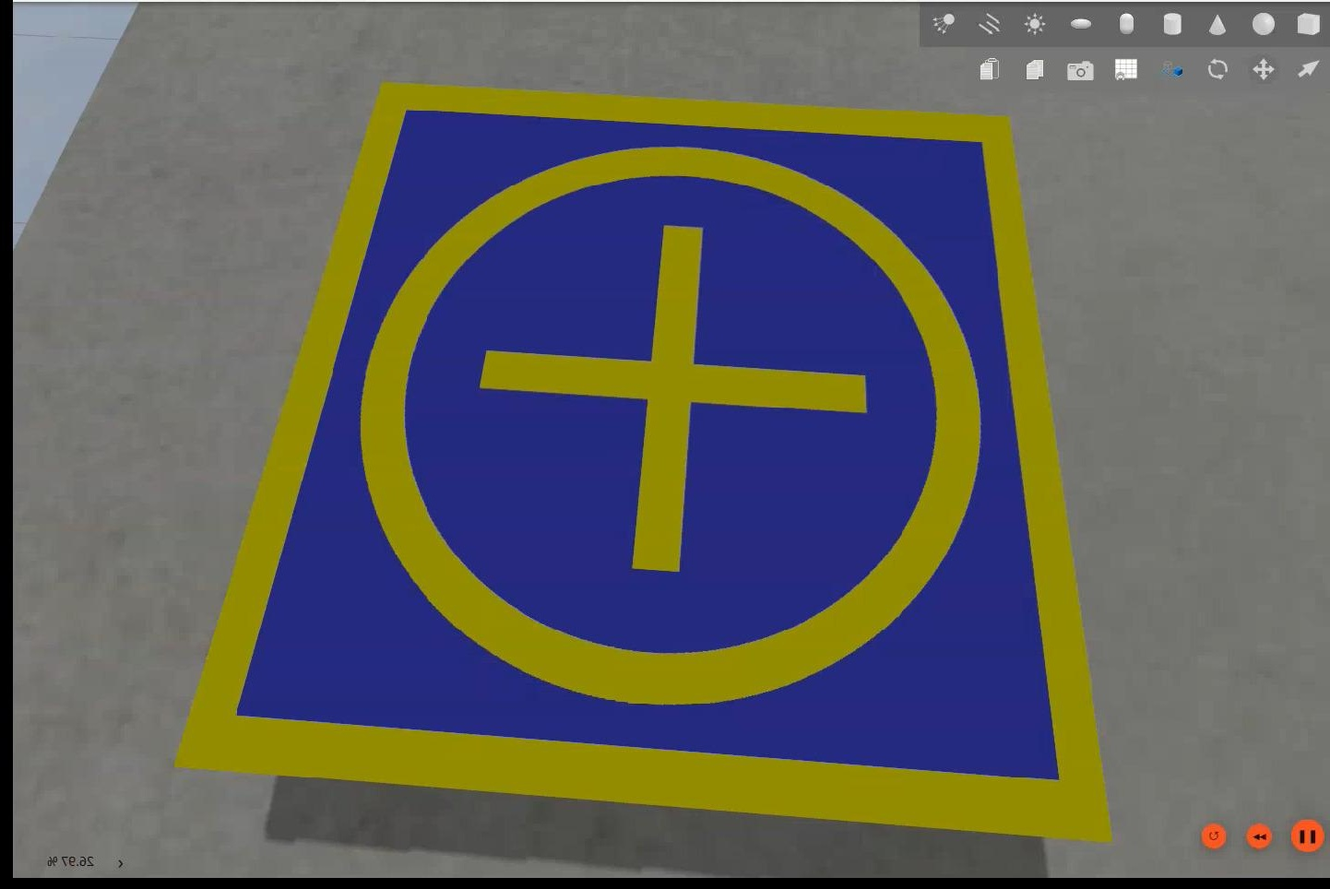small_base: (168, 84, 1122, 848)
